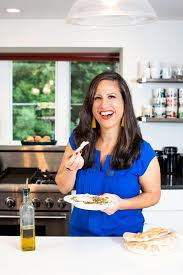middle_eastern_Female: (90, 79, 129, 128)
